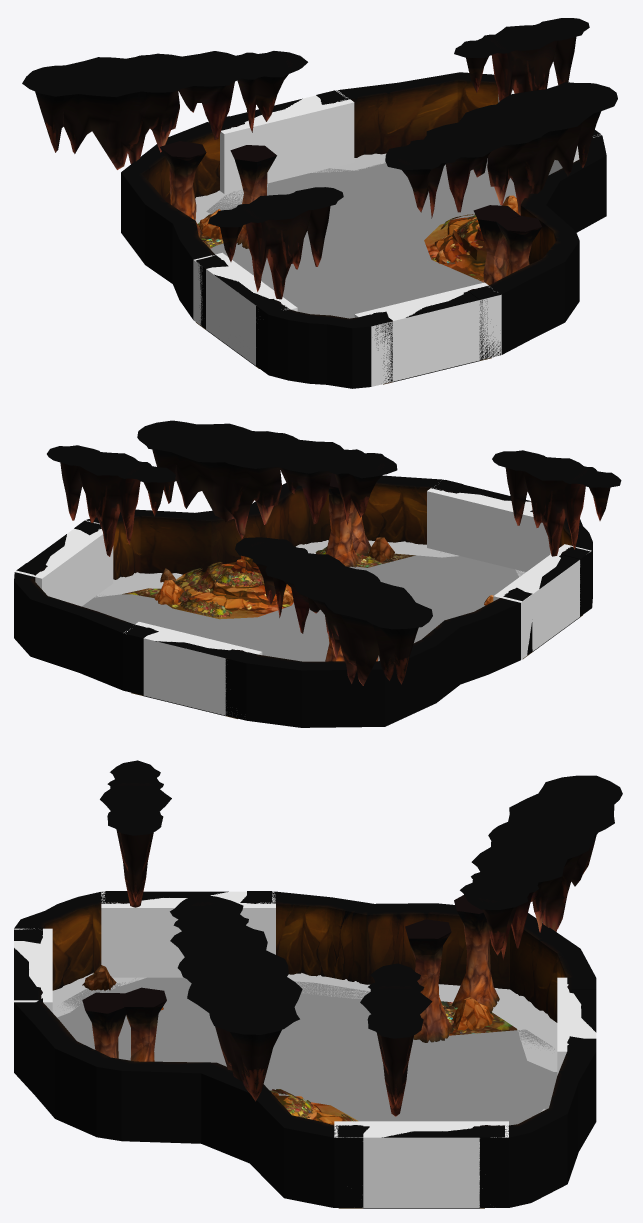
File: Dungeon_062_BossRoom.fbx
The picture shows the model from 3 angles, top to bottom: view 1: azimuth 30°, elevation 25°; view 2: azimuth 150°, elevation 25°; view 3: azimuth 270°, elevation 25°; orthographic projection. The views are drawn at different scales.
Parts seen in each view (by area): view 1: Dun_061_Room_003_Object02, Dun_061_Room_003_wall, Dun_062_Room_007_Nav, DoorWay_NavMask (3) (×3), DoorWay_NavMask (1) (×3), Dun_062_Object025, Dungeon_062_Object_04_Pillar (×2), Dun_062_Door_002 (×3), Dun_062_Object07, Dun_061_Room_003_shadow, Dun_011_Room_003_ground; view 2: Dun_061_Room_003_wall, Dun_061_Room_003_Object02, DoorWay_NavMask (3) (×4), Dun_062_Room_007_Nav, DoorWay_NavMask (1) (×3), Dun_062_Door_002 (×4), Dun_062_Object07, Dun_062_Object024, Dun_061_Room_003_shadow, Dungeon_062_Object_04_Pillar, Dun_011_Room_003_ground, Dun_062_Object023 (+2 smaller); view 3: Dun_061_Room_003_wall, Dun_061_Room_003_Object02, Dun_062_Room_007_Nav, DoorWay_NavMask (3) (×4), DoorWay_NavMask (1), Dungeon_062_Object_04_Pillar (×2), Dun_062_Door_002 (×4), Dun_061_Room_003_shadow, Dun_062_Object025, Dun_062_Object023, Dun_011_Room_003_ground.
Boxes of the visible parts, box(x1,y1,x2,y2) form: Dun_061_Room_003_Object02: box(22, 18, 617, 299); Dun_061_Room_003_wall: box(121, 72, 606, 388); Dun_062_Room_007_Nav: box(206, 158, 516, 318); DoorWay_NavMask (3) (×3): box(193, 90, 501, 386); DoorWay_NavMask (1) (×3): box(206, 95, 480, 381); Dun_062_Object025: box(160, 141, 541, 276); Dungeon_062_Object_04_Pillar (×2): box(230, 145, 519, 285); Dun_062_Door_002 (×3): box(195, 90, 497, 382); Dun_062_Object07: box(434, 217, 486, 276); Dun_061_Room_003_shadow: box(195, 153, 386, 223); Dun_011_Room_003_ground: box(196, 214, 491, 384); Dun_061_Room_003_wall: box(14, 475, 592, 727); Dun_061_Room_003_Object02: box(47, 420, 621, 685); DoorWay_NavMask (3) (×4): box(15, 485, 591, 715); Dun_062_Room_007_Nav: box(82, 552, 525, 661); DoorWay_NavMask (1) (×3): box(46, 529, 560, 715); Dun_062_Door_002 (×4): box(16, 480, 590, 715); Dun_062_Object07: box(176, 555, 291, 611); Dun_062_Object024: box(174, 546, 368, 617); Dun_061_Room_003_shadow: box(95, 540, 525, 597); Dungeon_062_Object_04_Pillar: box(325, 473, 358, 567); Dun_011_Room_003_ground: box(122, 553, 582, 718); Dun_062_Object023: box(160, 537, 394, 604); Dun_061_Room_003_wall: box(14, 891, 596, 1207); Dun_061_Room_003_Object02: box(100, 760, 622, 1116); Dun_062_Room_007_Nav: box(57, 977, 557, 1125); DoorWay_NavMask (3) (×4): box(14, 891, 596, 1207); DoorWay_NavMask (1): box(363, 1128, 479, 1207); Dungeon_062_Object_04_Pillar (×2): box(122, 919, 453, 1061); Dun_062_Door_002 (×4): box(14, 891, 596, 1208); Dun_061_Room_003_shadow: box(52, 973, 557, 1112); Dun_062_Object025: box(82, 895, 499, 1058); Dun_062_Object023: box(82, 965, 493, 1095); Dun_011_Room_003_ground: box(92, 973, 517, 1208).
Bounding box in the file's own units: 17.49 × 5.02 × 15.84.
